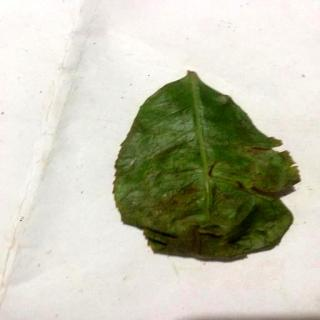Red Leaf Spot: (115, 72, 302, 263)
